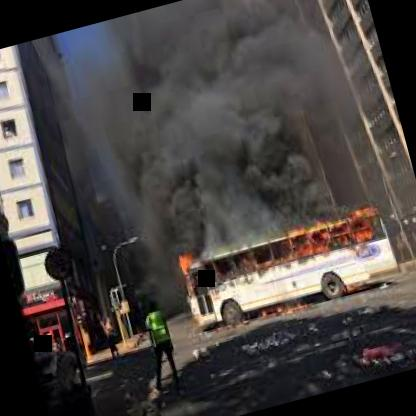fire: (128, 62, 294, 240), (175, 199, 387, 330)
